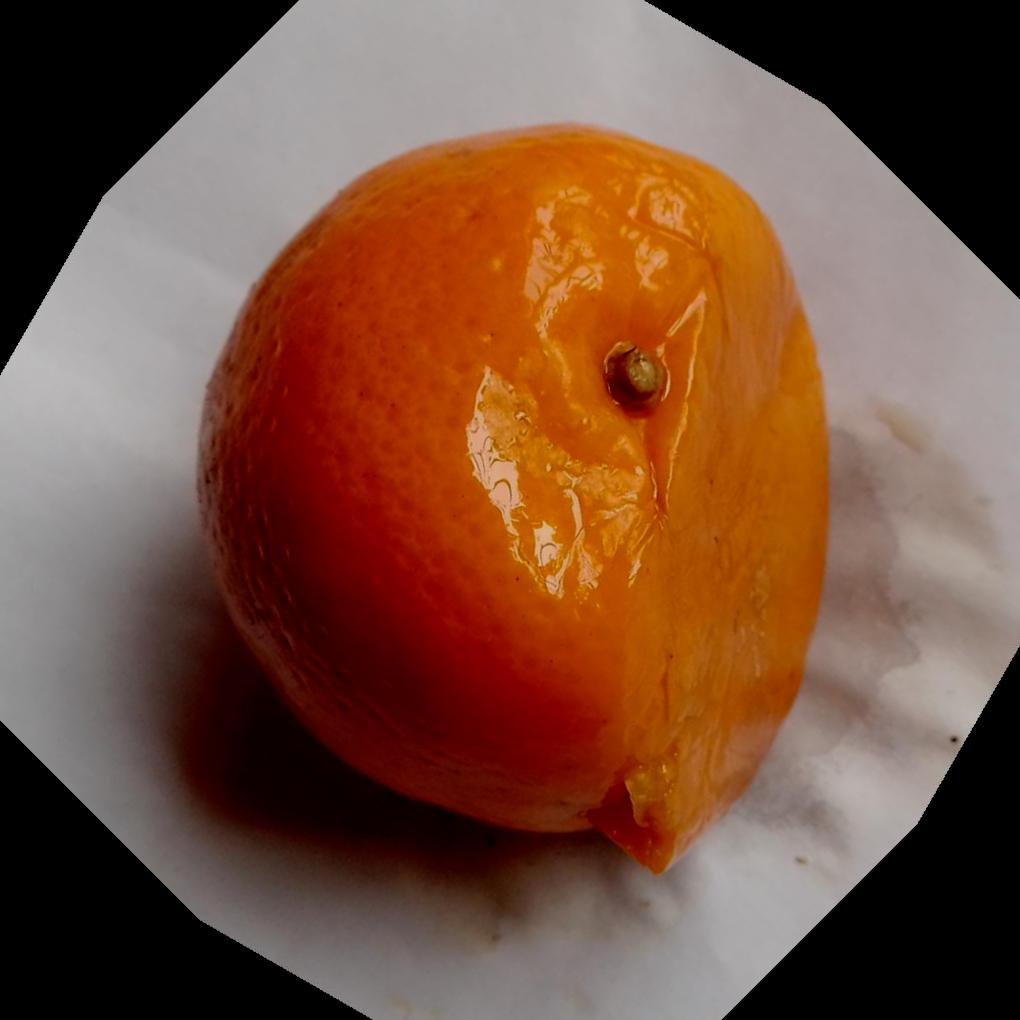FreshOrange: (196, 123, 835, 877)
